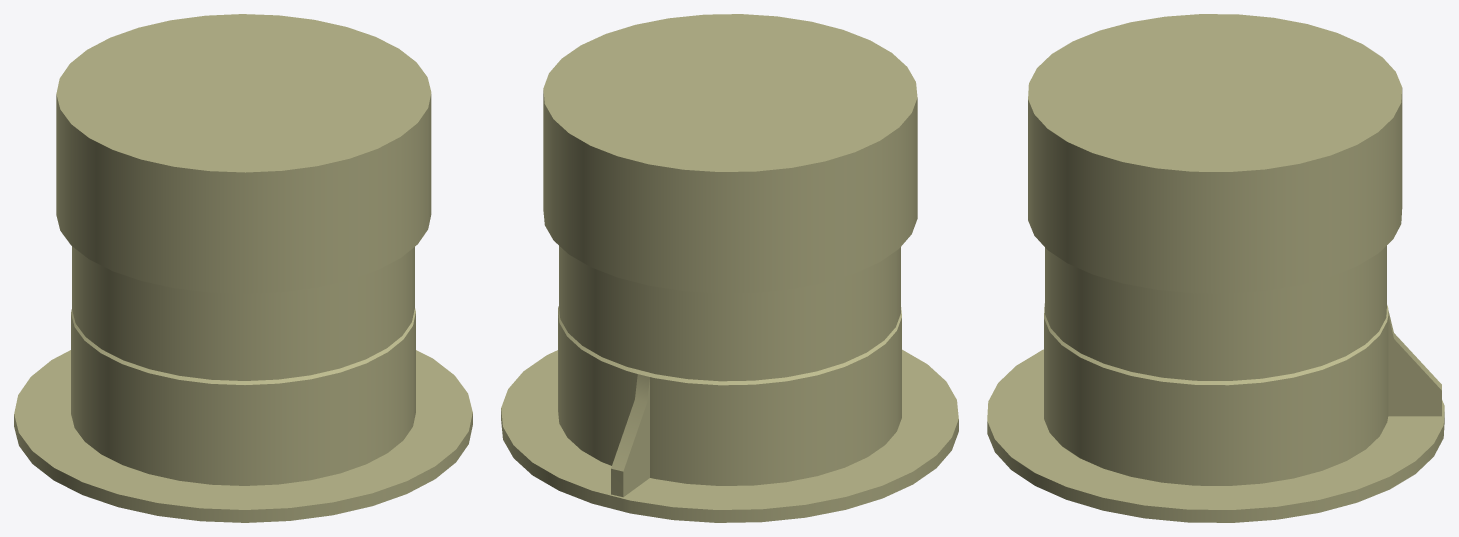
3 renders of one model, left to right at view 1: azimuth 30°, elevation 25°; view 2: azimuth 150°, elevation 25°; view 3: azimuth 270°, elevation 25°, orthographic.
Visible parts, largest first — view 1: v_wb_link_0; view 2: v_wb_link_0; view 3: v_wb_link_0.
Part boxes in pixels (x1,y1,x2,y2): v_wb_link_0: [14, 14, 472, 522]; v_wb_link_0: [501, 14, 958, 522]; v_wb_link_0: [987, 14, 1444, 522].
Size of the model in its own units: 0.1606 by 0.1606 by 0.129.
1 material, 1 textured.
